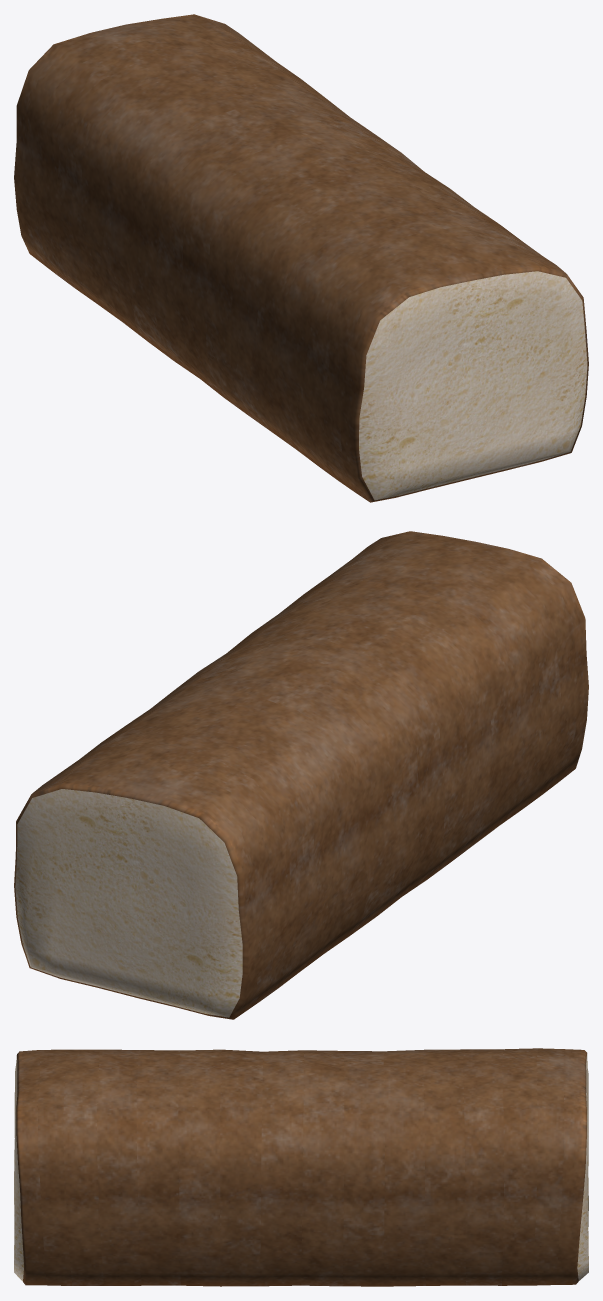
File: Bread_29.obj
3 views of the same model, one above another, from view 1: azimuth 30°, elevation 25°; view 2: azimuth 150°, elevation 25°; view 3: azimuth 270°, elevation 25° (orthographic). The views are drawn at different scales.
Visible parts, largest first — view 1: whitebread_b_mesh; view 2: whitebread_b_mesh; view 3: whitebread_b_mesh.
Part boxes in pixels (x1,y1,x2,y2): whitebread_b_mesh: [14, 14, 588, 502]; whitebread_b_mesh: [14, 531, 588, 1019]; whitebread_b_mesh: [14, 1048, 588, 1286].
Size of the model in its own units: 0.1547 by 0.1343 by 0.3888.
